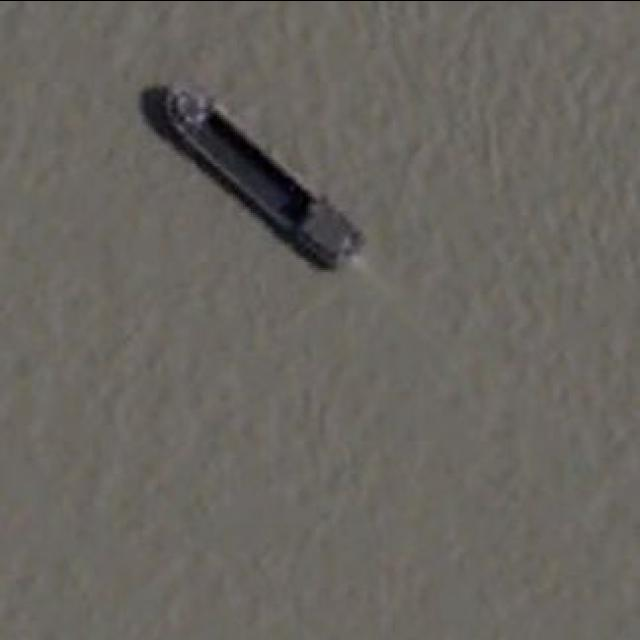ship: (152, 80, 368, 272)
